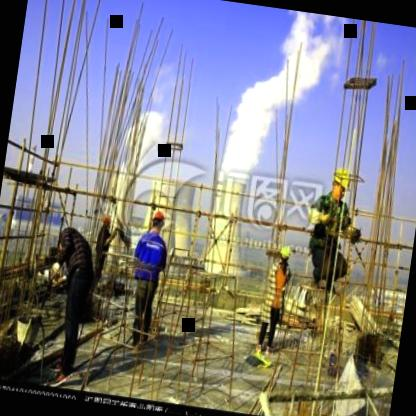helmet: (328, 164, 353, 204), (148, 209, 167, 237), (276, 239, 292, 265)
